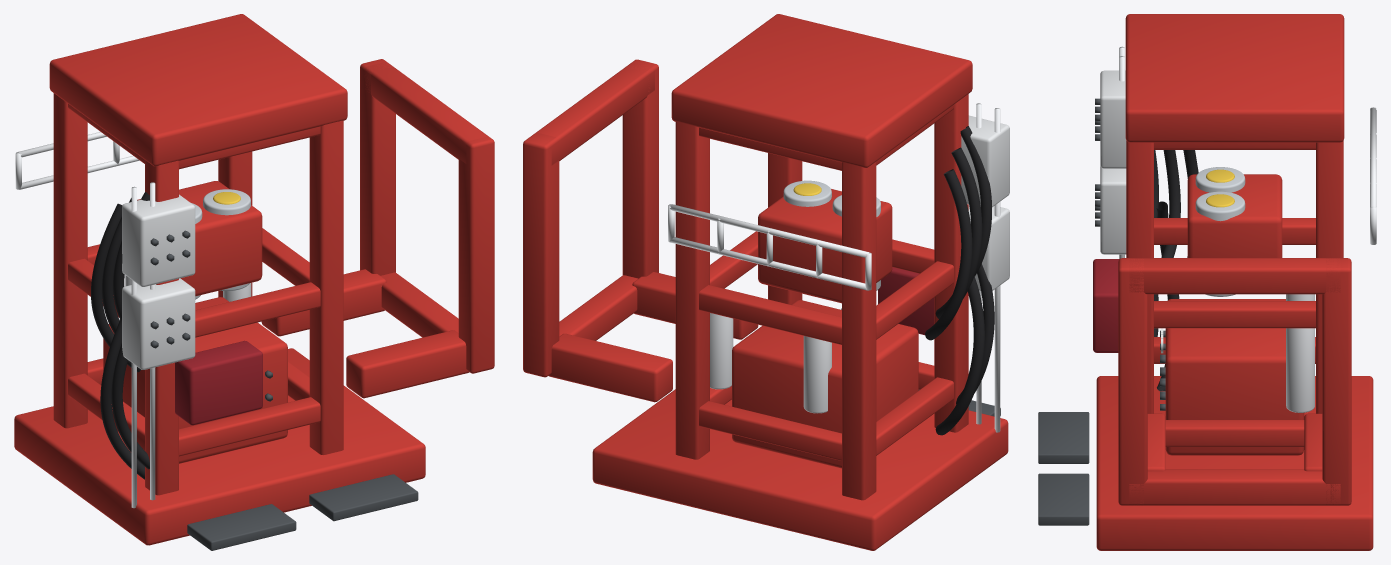
The model's file is roughneck_blender.glb.
3 renders of one model, left to right at view 1: azimuth 30°, elevation 25°; view 2: azimuth 150°, elevation 25°; view 3: azimuth 270°, elevation 25°, orthographic. The views are drawn at different scales.
Visible parts, largest first — view 1: roughneck_vermelho_forte, roughneck_cinza_caixa, roughneck_aco_escuro, roughneck_borracha, roughneck_HMH_vermelho_escuro, roughneck_cromo, roughneck_aco; view 2: roughneck_vermelho_forte, roughneck_cromo, roughneck_borracha, roughneck_cinza_caixa, roughneck_HMH_vermelho_escuro, roughneck_aco; view 3: roughneck_vermelho_forte, roughneck_aco_escuro, roughneck_cinza_caixa, roughneck_cromo, roughneck_HMH_vermelho_escuro, roughneck_borracha, roughneck_aco, roughneck_HMH_amarelo.
Boxes of the visible parts, x1,y1,x2,y2 form: roughneck_vermelho_forte: (14, 14, 494, 545); roughneck_cinza_caixa: (122, 194, 195, 369); roughneck_aco_escuro: (150, 230, 418, 550); roughneck_borracha: (91, 192, 149, 479); roughneck_HMH_vermelho_escuro: (175, 340, 262, 425); roughneck_cromo: (15, 132, 251, 508); roughneck_aco: (191, 189, 250, 299); roughneck_vermelho_forte: (523, 14, 1008, 550); roughneck_cromo: (668, 103, 1000, 432); roughneck_borracha: (925, 126, 994, 435); roughneck_cinza_caixa: (961, 115, 1009, 291); roughneck_HMH_vermelho_escuro: (878, 267, 934, 335); roughneck_aco: (783, 180, 880, 290); roughneck_vermelho_forte: (1096, 14, 1373, 550); roughneck_aco_escuro: (1038, 98, 1165, 525); roughneck_cinza_caixa: (1100, 70, 1126, 254); roughneck_cromo: (1119, 46, 1376, 412); roughneck_HMH_vermelho_escuro: (1093, 259, 1119, 352); roughneck_borracha: (1154, 150, 1198, 390); roughneck_aco: (1195, 167, 1245, 296); roughneck_HMH_amarelo: (1206, 169, 1234, 207).
Size of the model in its own units: 6.06 by 6.19 by 4.64.
